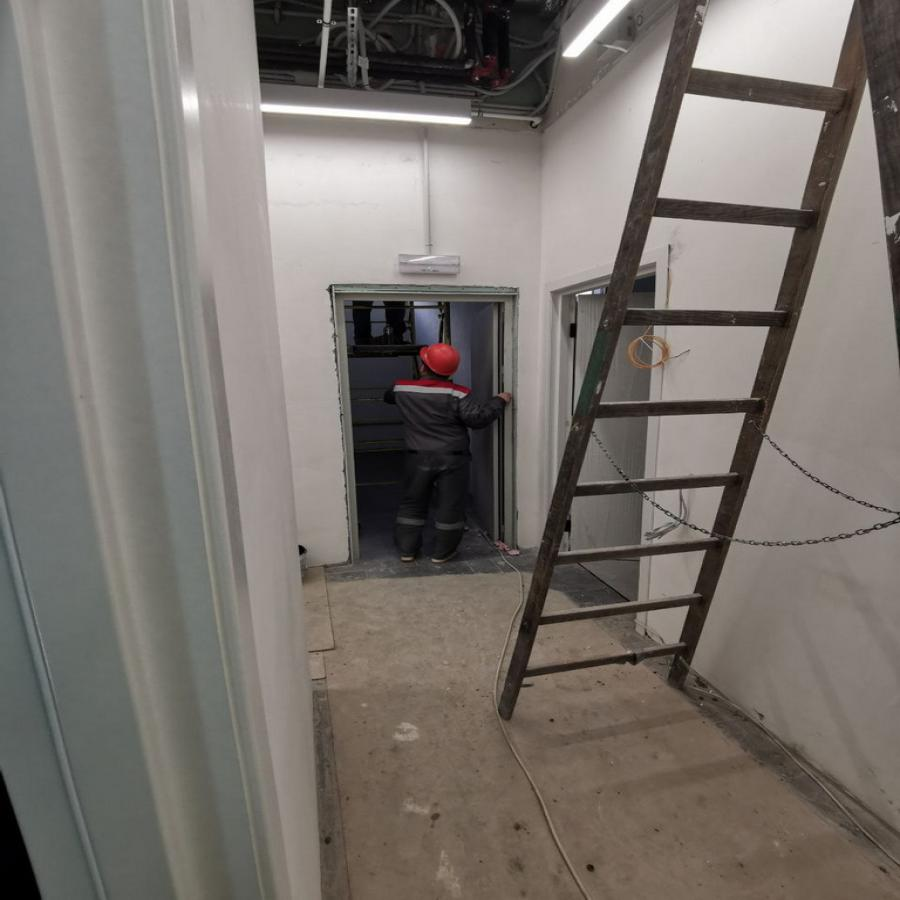Helmet: (415, 344, 465, 385)
